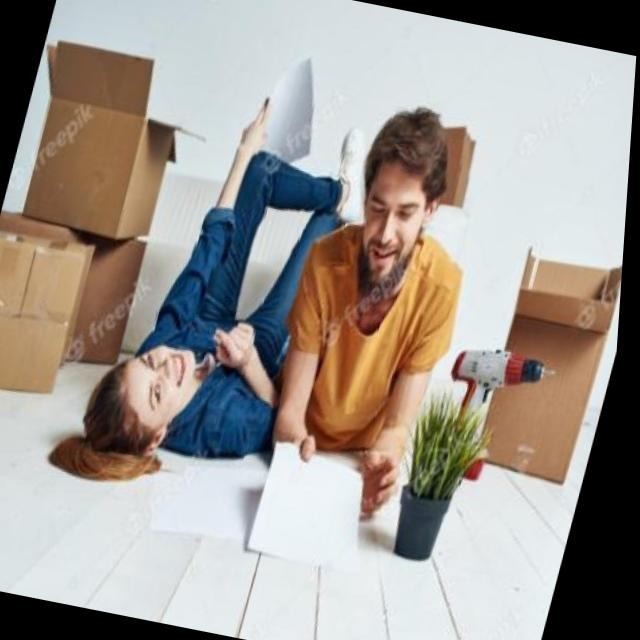box: (2, 16, 226, 248), (466, 234, 628, 511), (0, 214, 103, 407), (63, 228, 149, 349)
